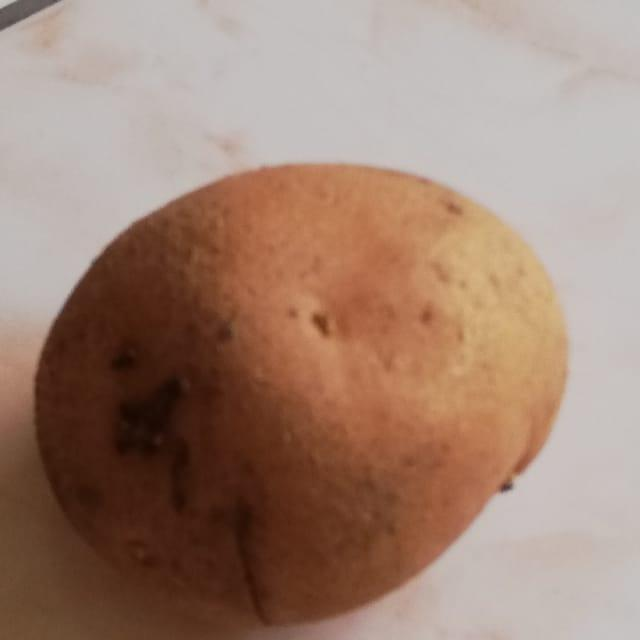potato: (8, 146, 591, 640)
